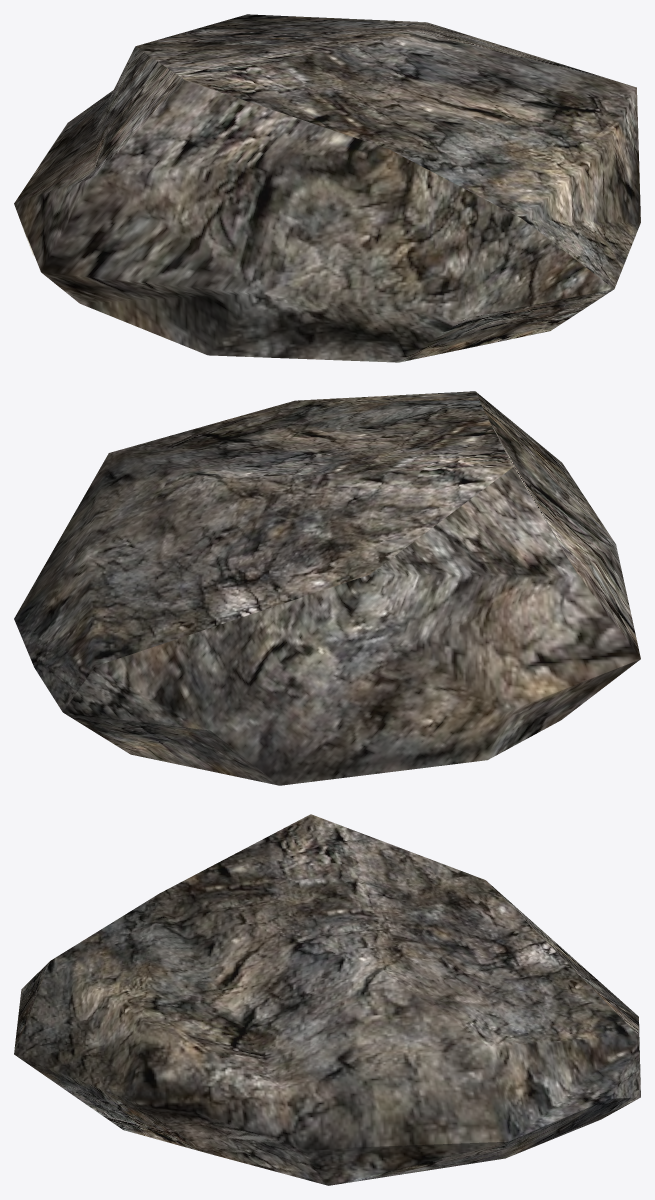
Rendered from pir_m_prp_cav_rock_l.fbx.
3 views of the same model, one above another, from view 1: azimuth 30°, elevation 25°; view 2: azimuth 150°, elevation 25°; view 3: azimuth 270°, elevation 25° (orthographic). The views are drawn at different scales.
Parts seen in each view (by area): view 1: lod_high; view 2: lod_high; view 3: lod_high.
Boxes of the visible parts, x1,y1,x2,y2 form: lod_high: [14, 14, 640, 362]; lod_high: [14, 391, 640, 785]; lod_high: [14, 814, 640, 1185].
Bounding box in the file's own units: 543 × 244 × 586.
Materials: 1 (1 with a texture image).
